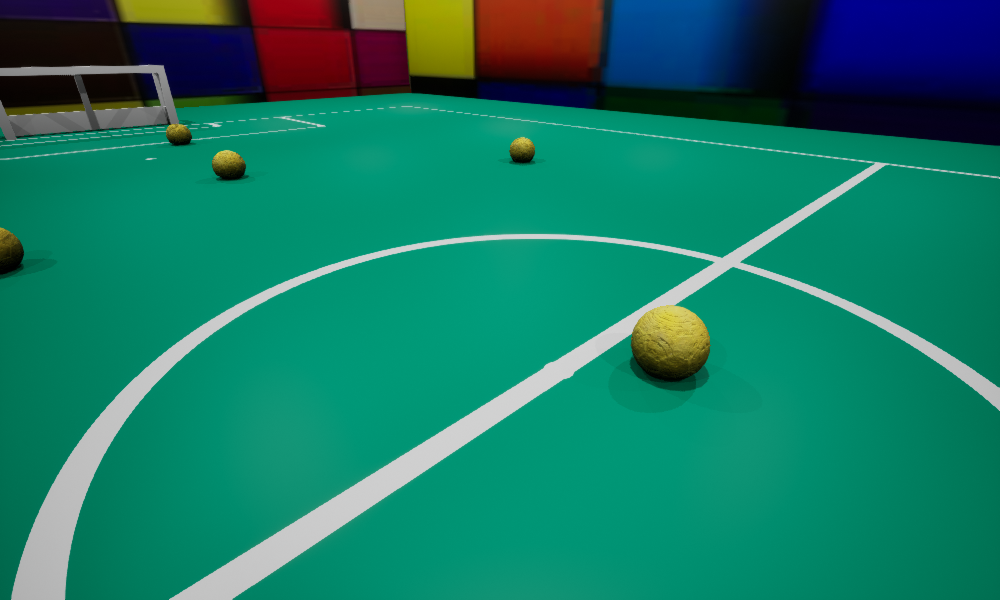b: (631, 305, 710, 379), (0, 227, 23, 271), (212, 150, 245, 179), (509, 137, 534, 162), (166, 123, 191, 143)
g: (0, 65, 178, 139)
